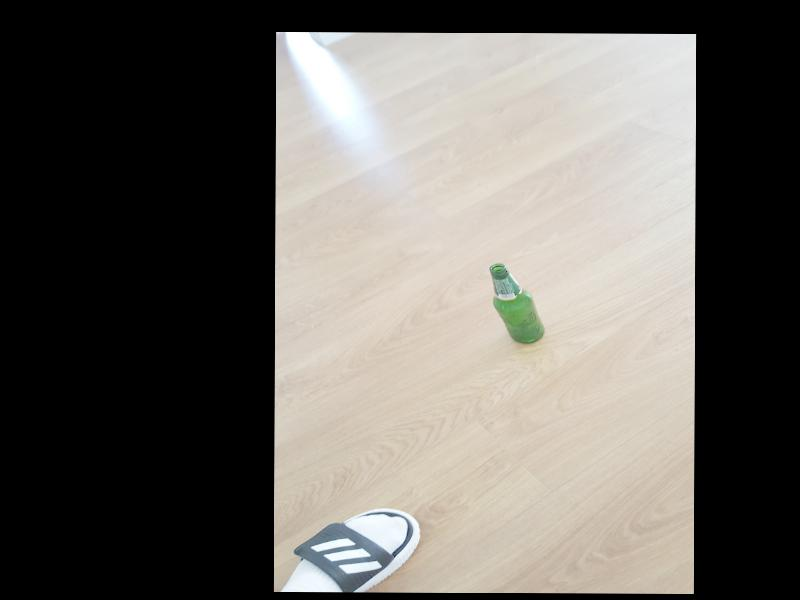Beer: (489, 265, 542, 343)
